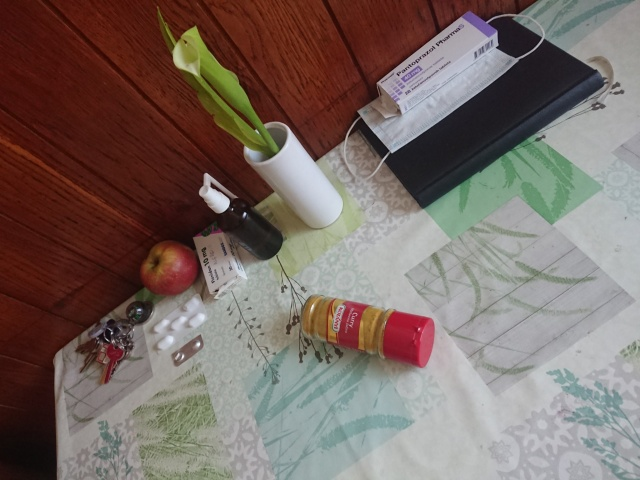Kotanyi Curry Spices Mix 70g: (298, 292, 437, 370)
